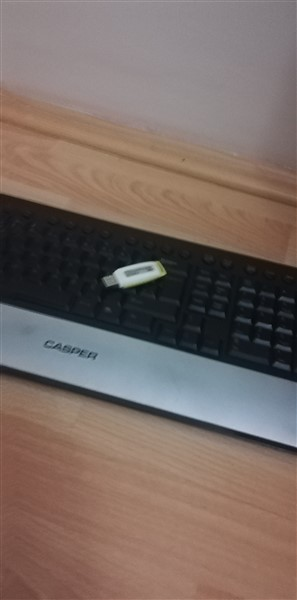flash disk: (98, 259, 170, 292)
klavye: (2, 188, 297, 450)
